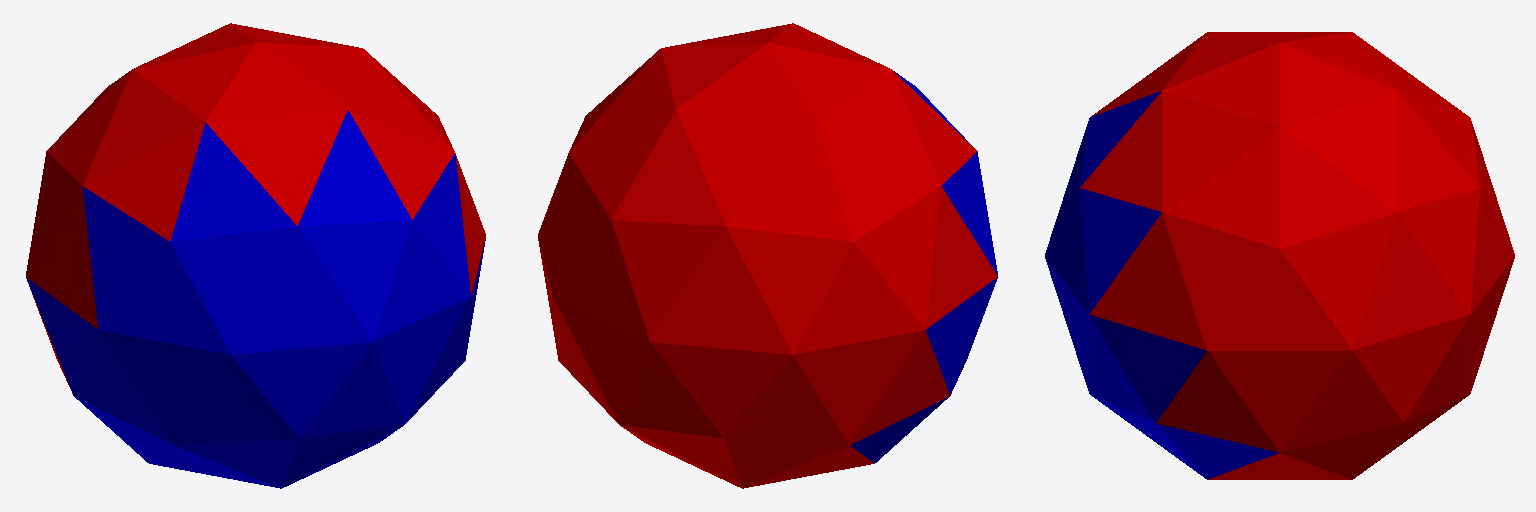
Rendered from ball_rb.obj.
3 renders of one model, left to right at view 1: azimuth 30°, elevation 25°; view 2: azimuth 150°, elevation 25°; view 3: azimuth 270°, elevation 25°, orthographic.
Visible parts, largest first — view 1: Icosphere; view 2: Icosphere; view 3: Icosphere.
Part boxes in pixels (bbox=[...]): Icosphere: bbox=[26, 23, 485, 488]; Icosphere: bbox=[538, 23, 997, 488]; Icosphere: bbox=[1045, 32, 1514, 479].
Size of the model in its own units: 1.9 by 2 by 2.